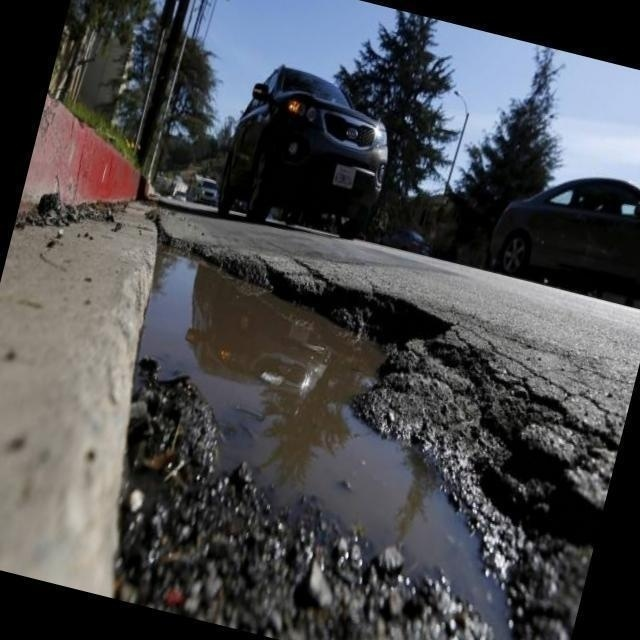pothole: (128, 238, 582, 630)
